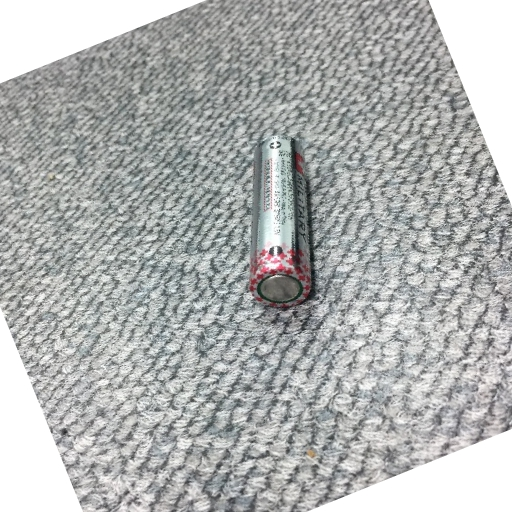Battery_0: (246, 127, 319, 316)
